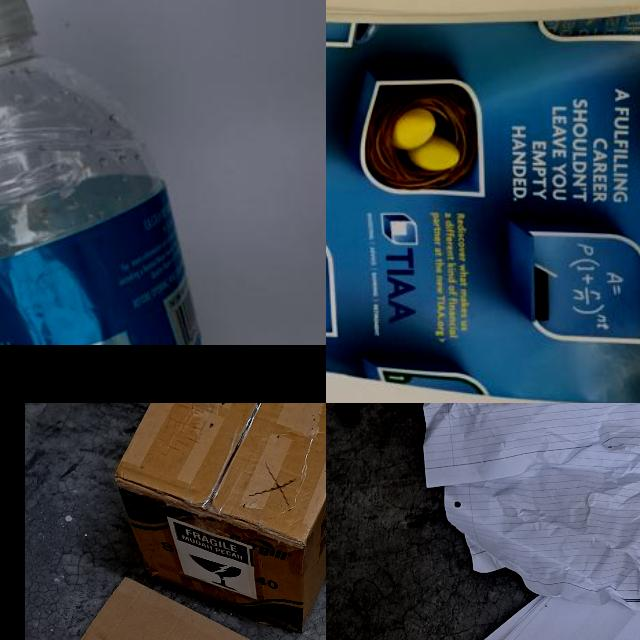garrafa plástica: (0, 57, 205, 345)
papel: (326, 8, 640, 403), (388, 403, 640, 612), (326, 582, 640, 640)
papelão: (111, 403, 326, 635), (24, 574, 326, 640)
tampa plástica: (0, 0, 37, 65)
